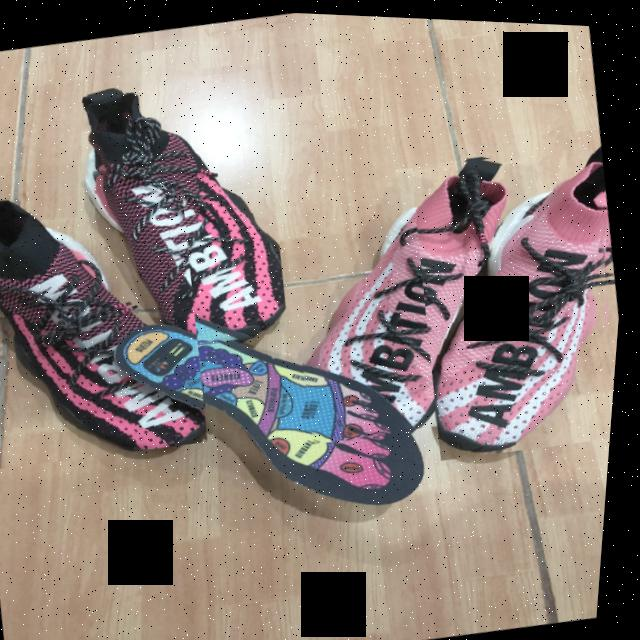shoe: (268, 140, 555, 449), (396, 131, 633, 461), (55, 60, 309, 367), (0, 144, 231, 477)
